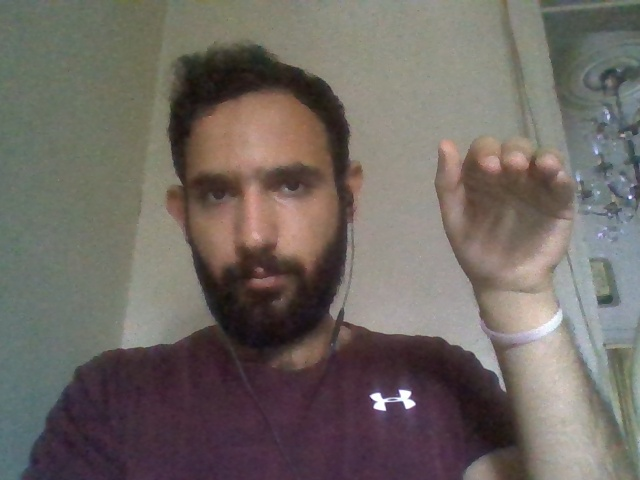Snake: (416, 121, 640, 480)
